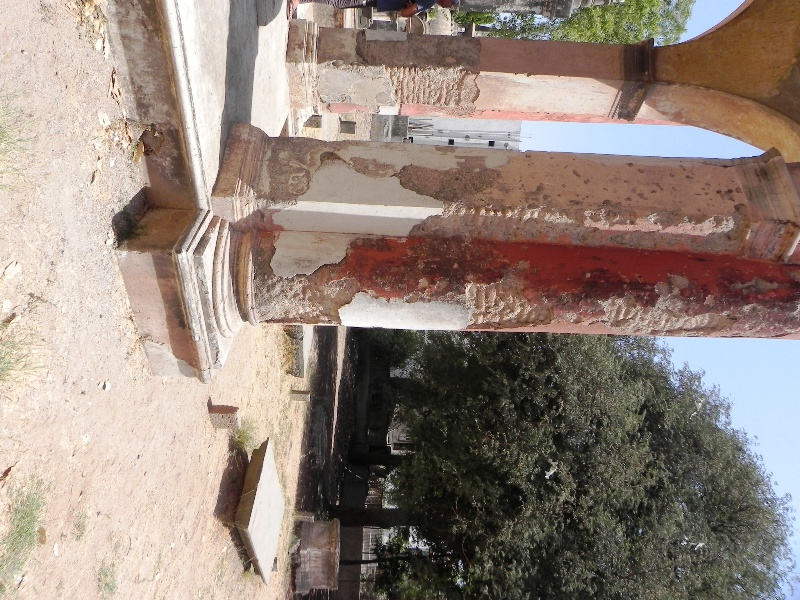Exposed Bricks: (468, 288, 545, 325), (393, 66, 464, 105), (446, 207, 530, 229)
Spalling: (588, 271, 800, 337), (248, 227, 371, 327)
